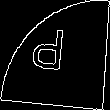P_S: (35, 28, 75, 82)
